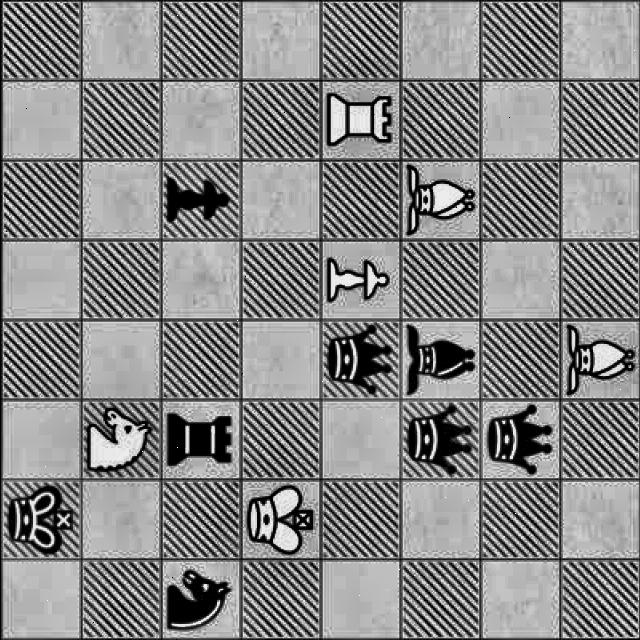Black Knight: (162, 560, 240, 640)
black bishop: (398, 322, 481, 398)
black king: (0, 483, 82, 559)
black pawn: (162, 164, 240, 236)
black queen: (484, 399, 559, 478), (402, 406, 480, 478), (323, 322, 398, 396)
black rook: (163, 403, 240, 477)
white bishop: (566, 322, 638, 397), (404, 168, 478, 234)
white king: (243, 482, 320, 556)
white pawn: (320, 243, 400, 316)
white rook: (319, 84, 402, 158)
whiteknight: (82, 402, 160, 478)
